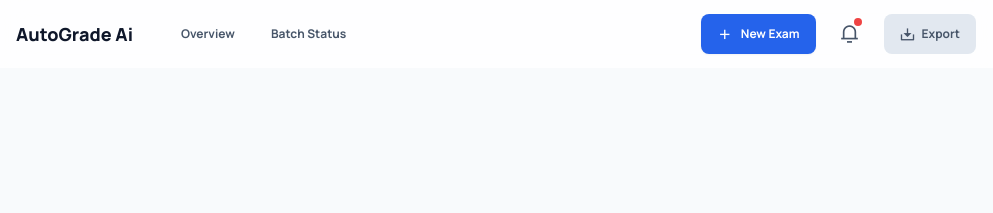
Test: Navbar Integration › opens notification dropdown on bell click
Click the button "notifications".
click(850, 34)  # box [832,12,868,56]
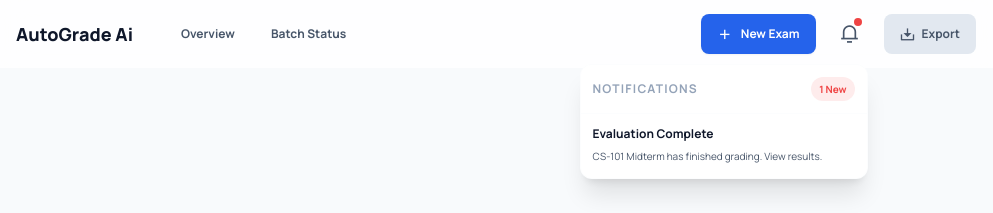
Result: the text "1 New" is shown at [811,77,854,101]
Result: the text "Evaluation Complete" is shown at [592,125,714,142]
